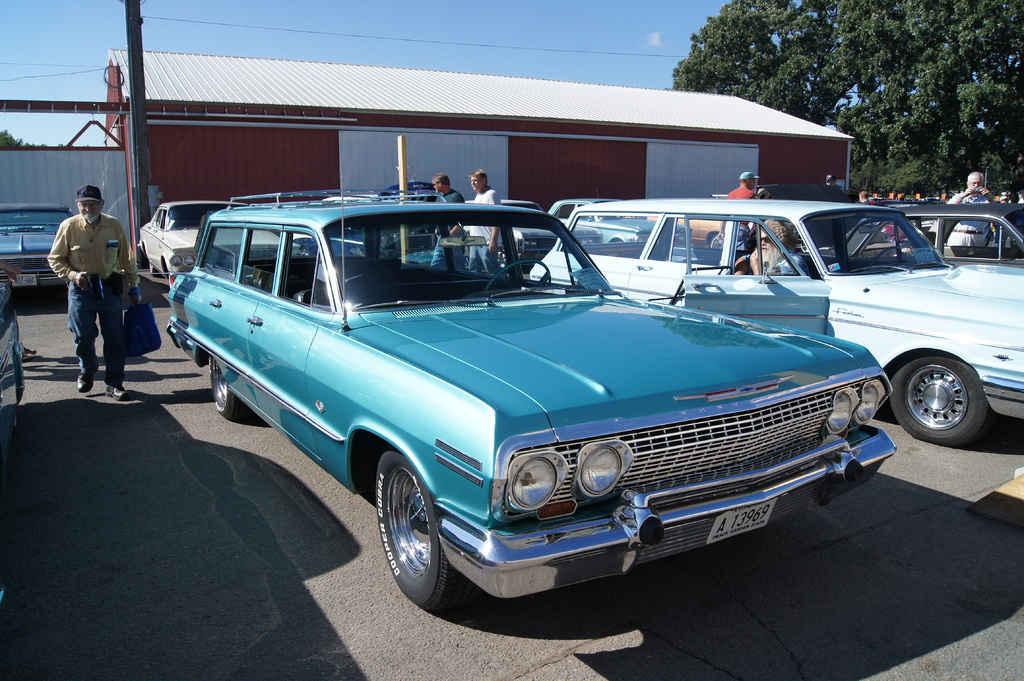Car: (528, 194, 1023, 455), (133, 192, 294, 306), (879, 196, 1023, 270), (0, 202, 97, 306), (459, 190, 574, 276), (373, 170, 469, 248), (548, 200, 669, 260), (0, 293, 37, 437)
